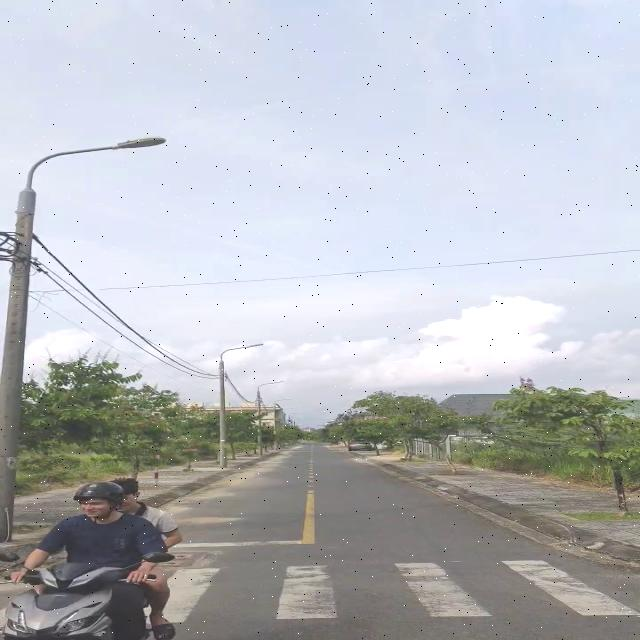helmet: (73, 481, 119, 525)
